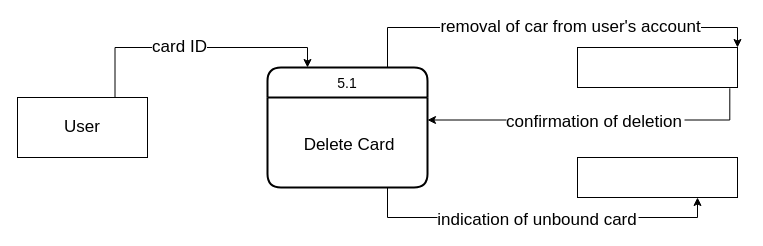
Some shapes in this 763 by 246 pixel diagram are drawn without their labels. Here are the shapes that lost their labels. From the top down, the centre of each, then its label:
(x=657, y=67): D1 User Accounts
(x=657, y=177): D2 Cards Database
